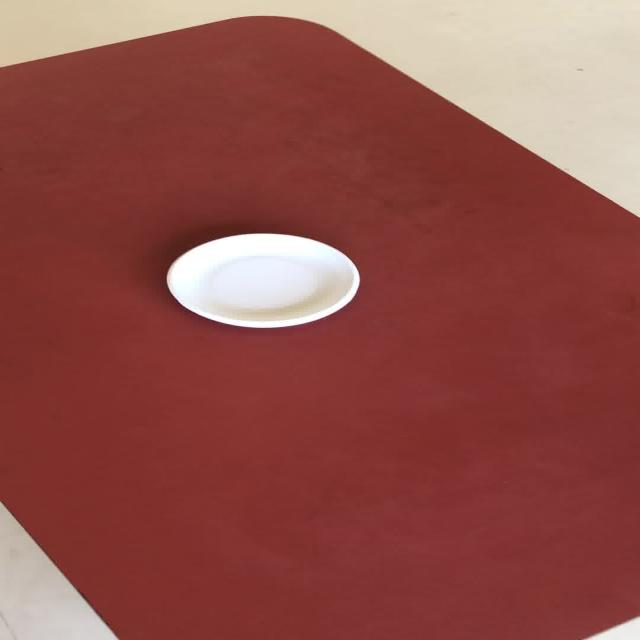plate: (164, 232, 360, 328)
